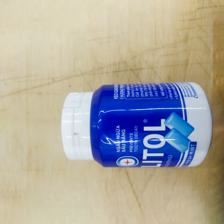Xylitol_blue: (58, 78, 213, 173)
